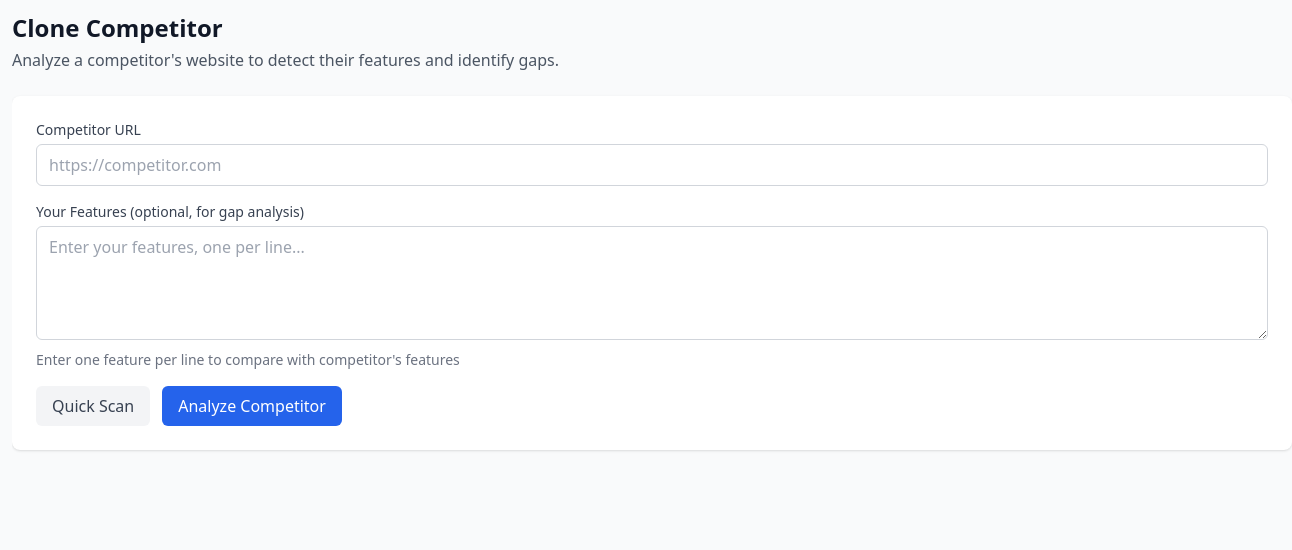
it: ClonePage › should display error when quick scan fails
Type "https://test.com" into the field labelled "Competitor URL" at (652, 165), box left=36, top=144, right=1268, bottom=186
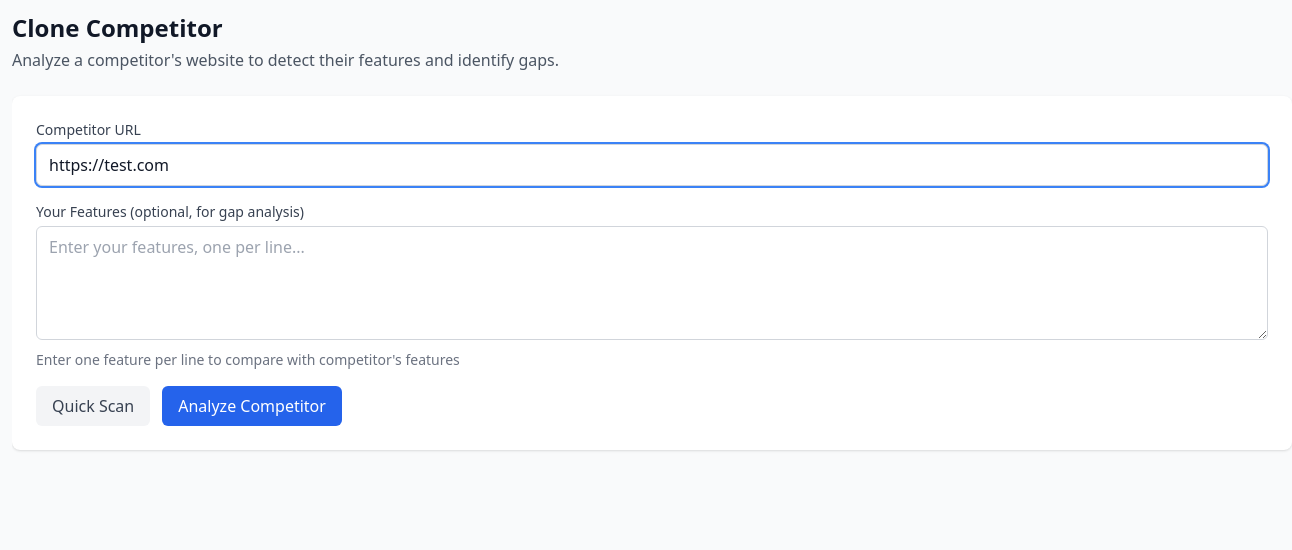
Click the button "Quick Scan" at (93, 406), box left=36, top=386, right=150, bottom=426
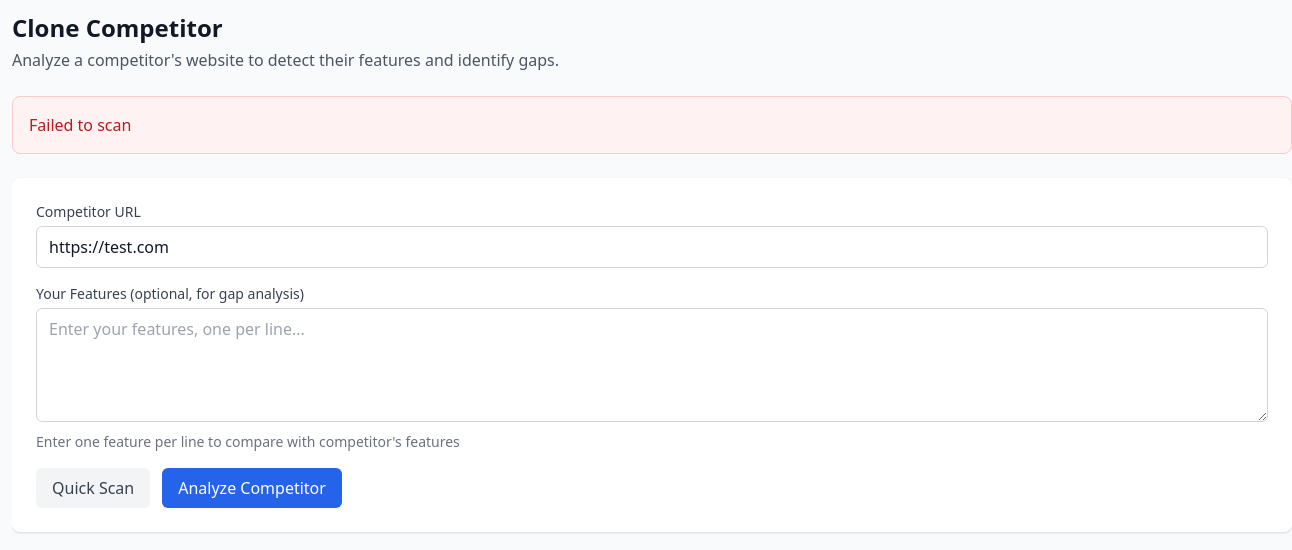
Expected: the text "Failed to scan" is shown, left=29, top=114, right=131, bottom=136
